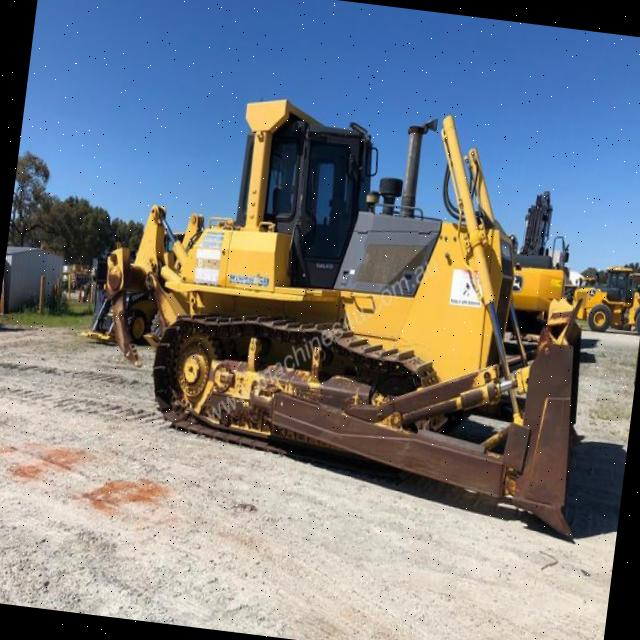Bulldozer: (57, 50, 640, 565)
